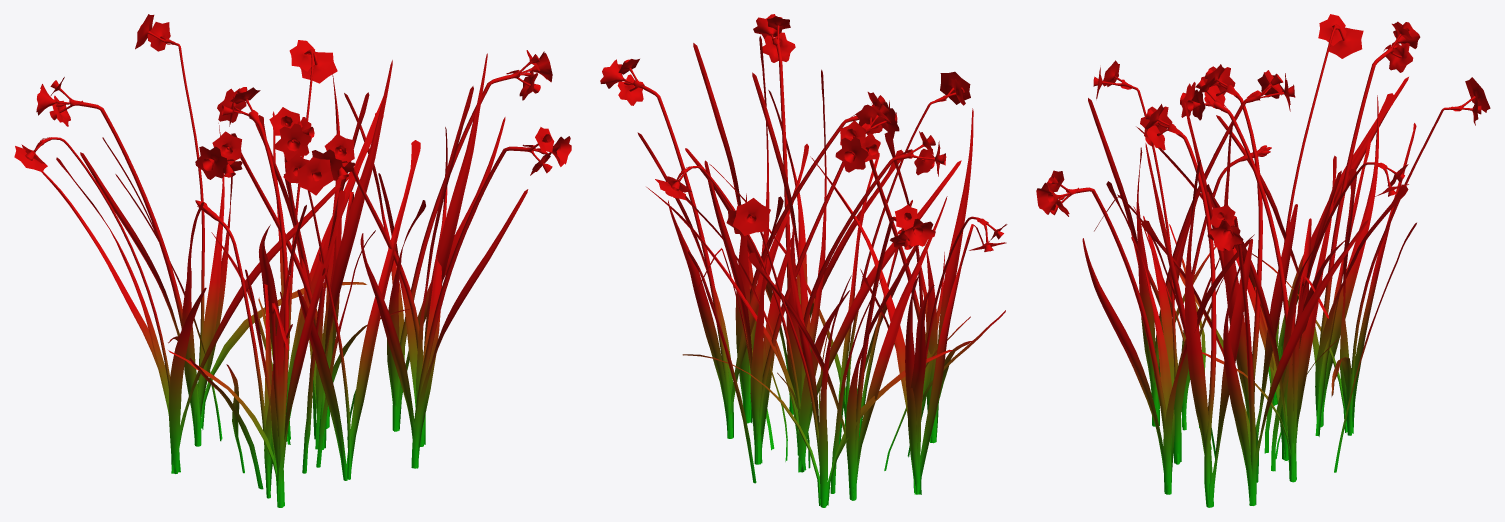
The model's file is Rush Daffodil_LOD0_Var1_wftgfjaia.fbx.
The picture shows the model from 3 angles, left to right: view 1: azimuth 30°, elevation 25°; view 2: azimuth 150°, elevation 25°; view 3: azimuth 270°, elevation 25°; orthographic projection. The views are drawn at different scales.
Parts seen in each view (by area): view 1: _daro_var1_LOD0; view 2: _daro_var1_LOD0; view 3: _daro_var1_LOD0.
Part boxes in pixels (left/top/right/bottom): _daro_var1_LOD0: left=14, top=14, right=571, bottom=507; _daro_var1_LOD0: left=600, top=14, right=1007, bottom=507; _daro_var1_LOD0: left=1036, top=14, right=1490, bottom=507.
Bounding box in the file's own units: 46.16 × 35.52 × 38.63.
